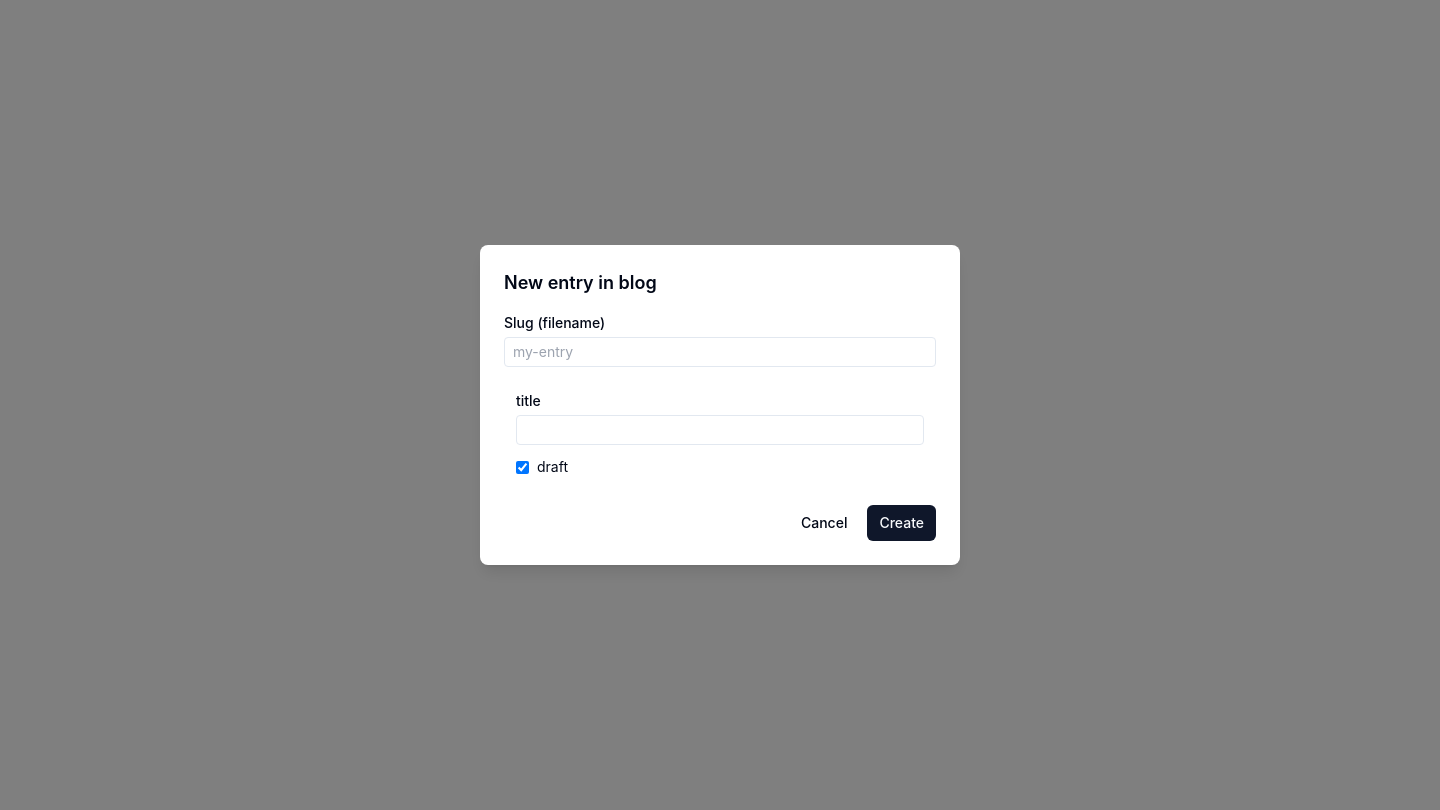
Test case: NewEntryDialog › validates required schema fields on submit
The image size is (1440, 810).
Type "my-post" into the field labelled "Slug (filename)". click: [720, 352]
box: [504,337,936,367]
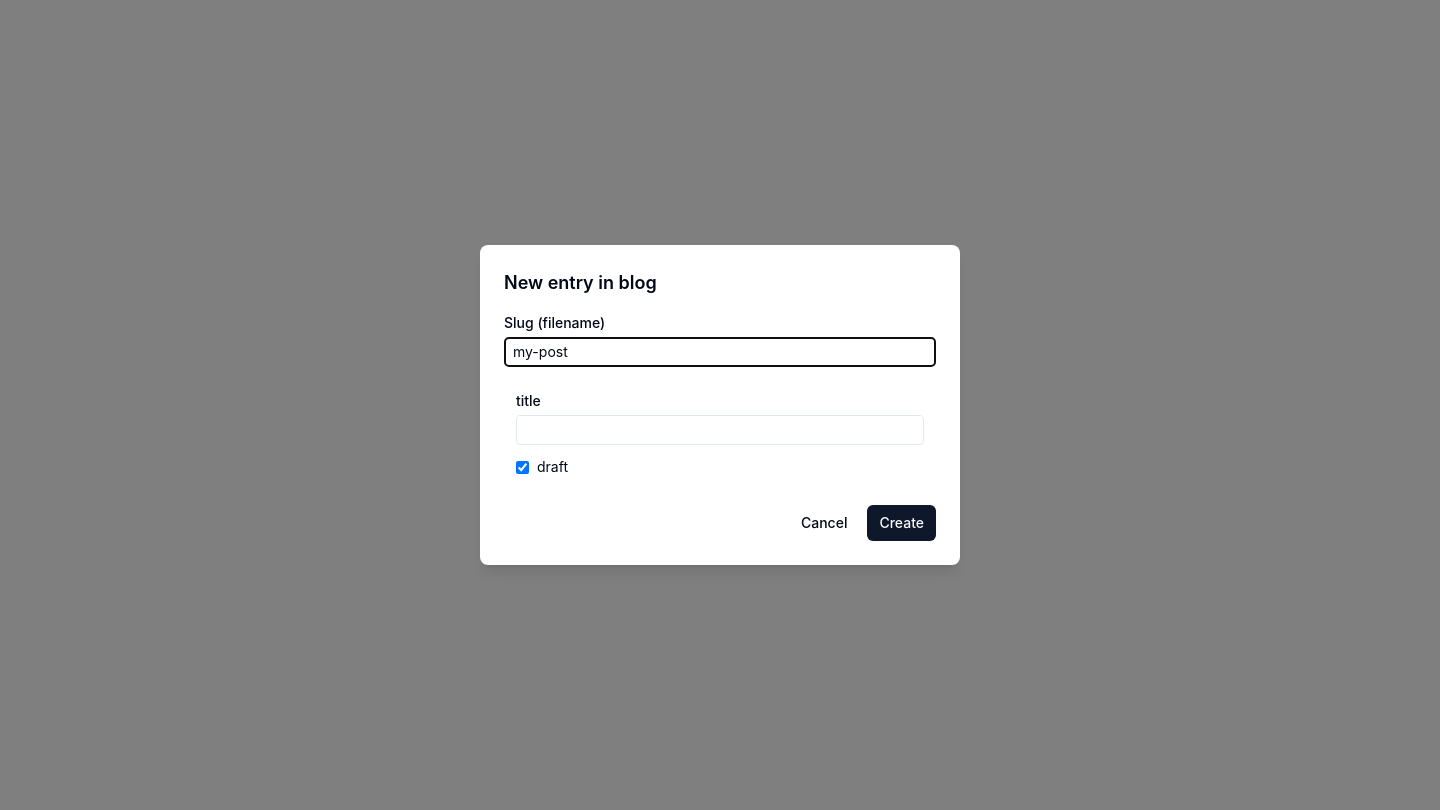
Click the button "Create". click: [902, 523]
box: [867,505,936,541]
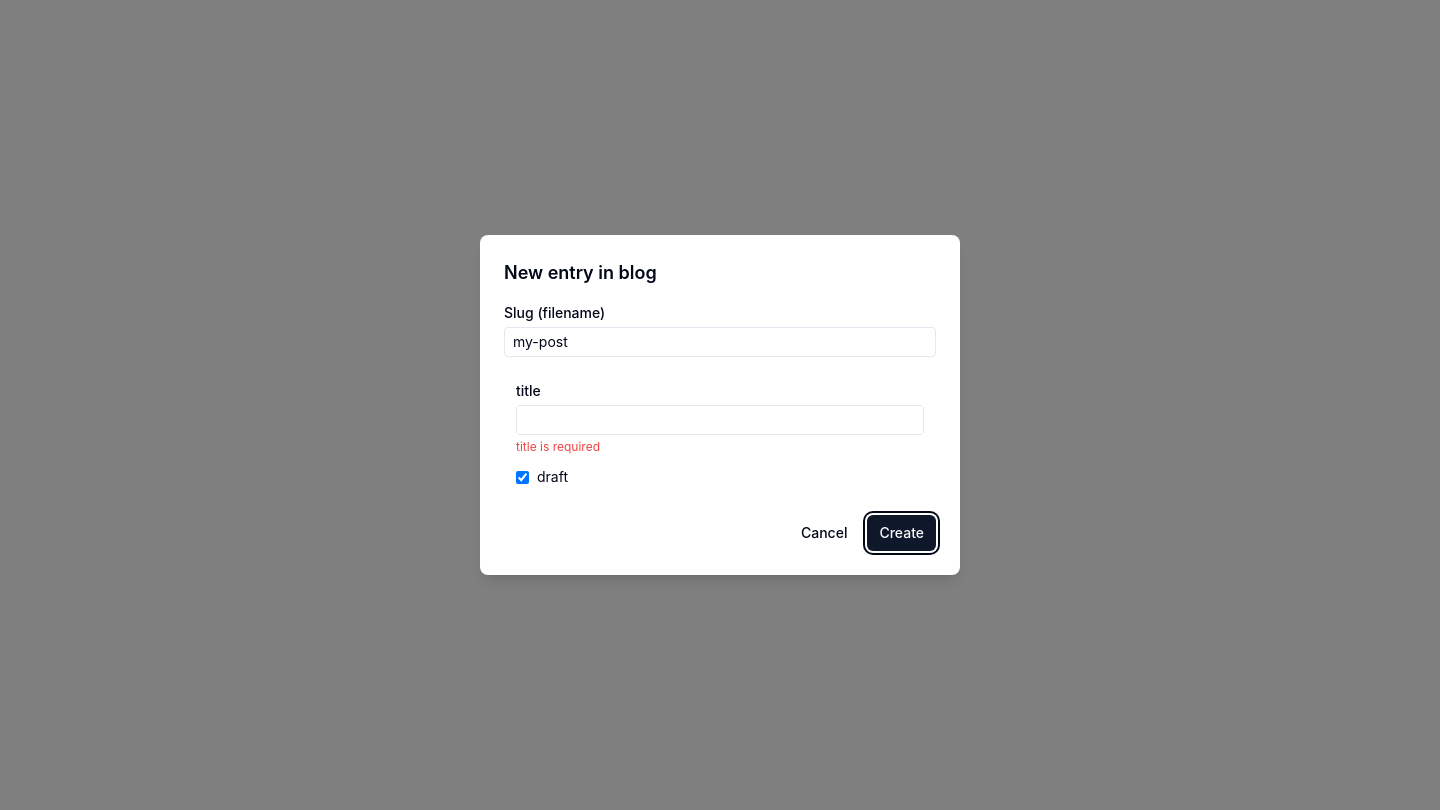
Result: the text "title is required" is shown at [516,439,600,454]
